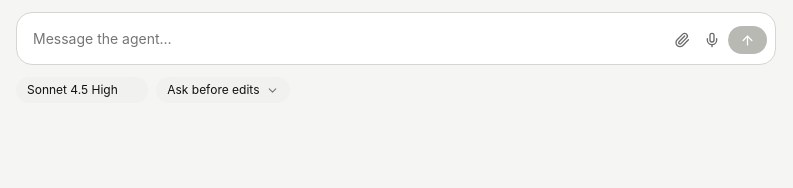
Scenario: dictation in the composer › appends the transcript to the draft the mic was pressed on
The width and height of the screenshot is (793, 188).
Click the text box labelled "Message the agent…" at (346, 38), box [33,21,660,56]
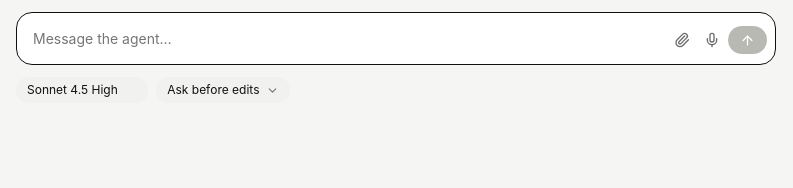
Type keys "after lunch"
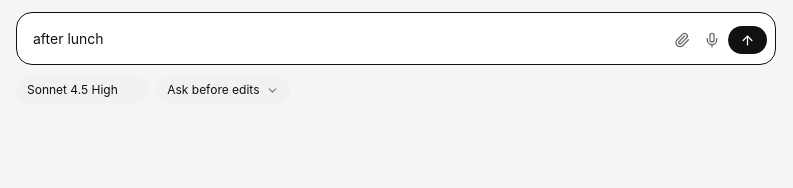
Click the button named "Start voice input" at (712, 40), box [698,26,726,54]
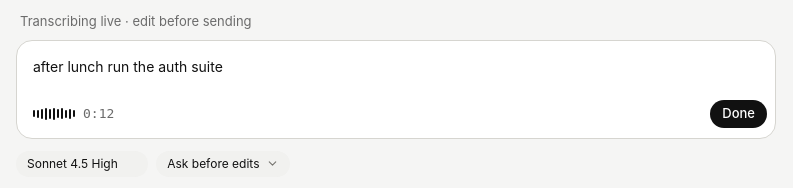
Expected: the text box named "Message the agent…" holds "after lunch run the auth suite", [33,48,767,84]
